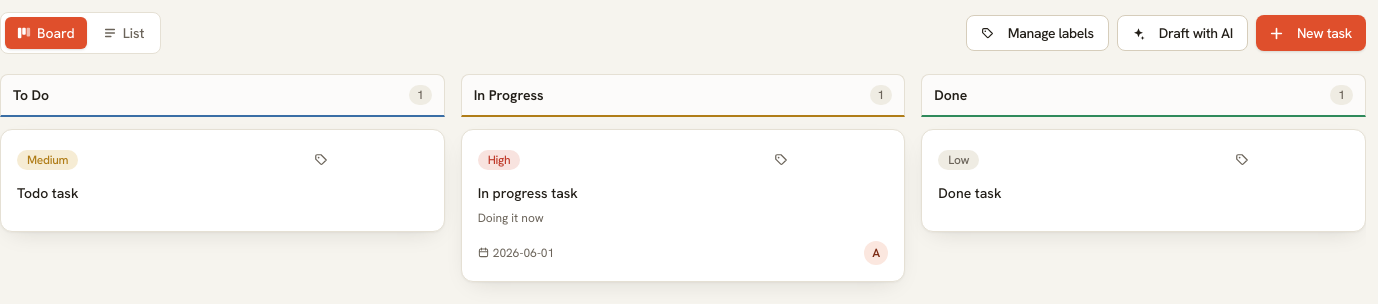
Scenario: TaskBoard › switches to list view and shows all tasks in a flat list
Expected: the heading "Todo task" is shown, [17, 184, 78, 202]
Click the button "List" at (124, 33), box [91, 17, 156, 49]
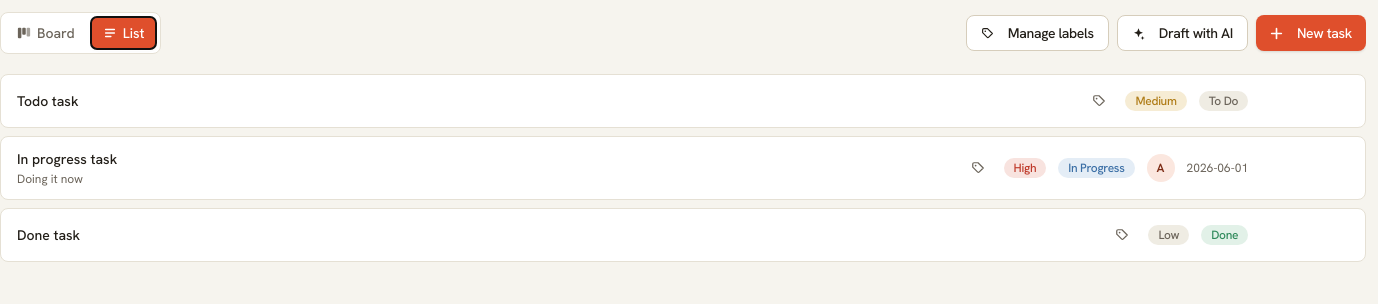
Result: the number of list items with test id "task-row" is 3 at [0, 74, 1366, 128]; [0, 136, 1366, 200]; [0, 208, 1366, 262]
